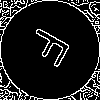F: (25, 25, 80, 74)
